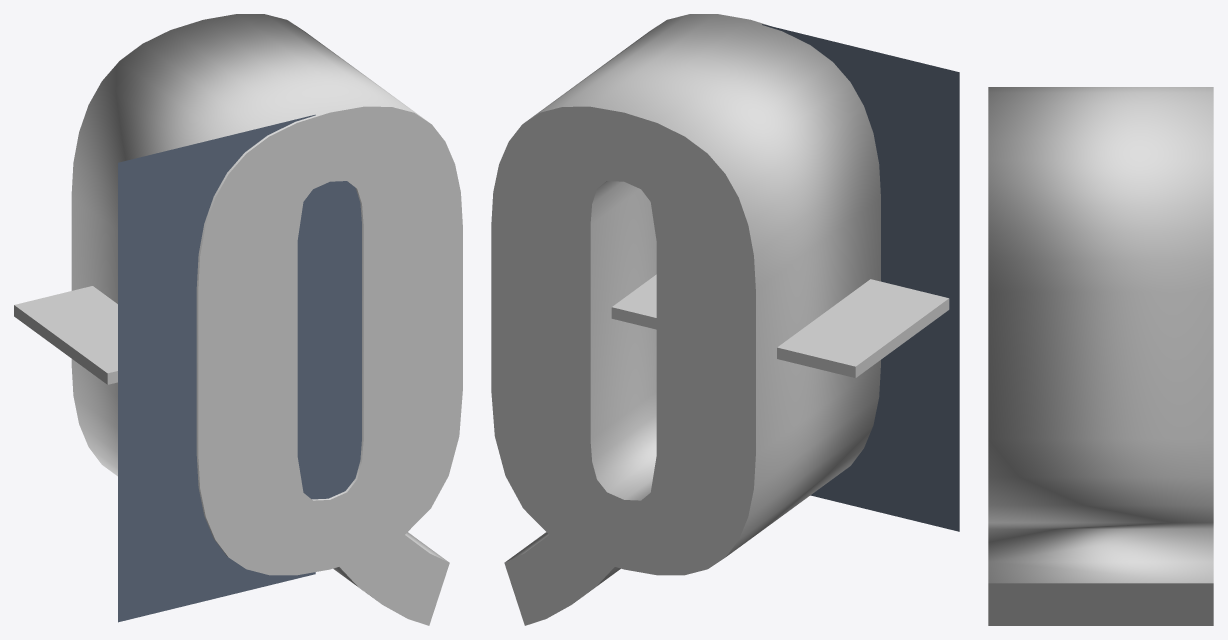
3 views of the same model, side by side, from view 1: azimuth 30°, elevation 25°; view 2: azimuth 150°, elevation 25°; view 3: azimuth 270°, elevation 25° (orthographic). The views are drawn at different scales.
Visible parts, largest first — view 1: group_1, instance_1, group_3, instance_0, group_2, instance_4; view 2: group_1, instance_1, instance_0, group_2, instance_4; view 3: group_1.
Part boxes in pixels (box(x1,y1,x2,y2)): group_1: box(71, 14, 462, 625); instance_1: box(118, 151, 167, 622); group_3: box(297, 181, 361, 499); instance_0: box(167, 138, 216, 610); group_2: box(14, 286, 117, 384); instance_4: box(217, 126, 266, 597); group_1: box(491, 14, 880, 625); instance_1: box(910, 60, 959, 531); instance_0: box(861, 48, 910, 519); group_2: box(611, 274, 949, 377); instance_4: box(811, 36, 860, 507); group_1: box(988, 87, 1213, 625).
Size of the model in its own units: 12.5 by 18.71 by 8.
